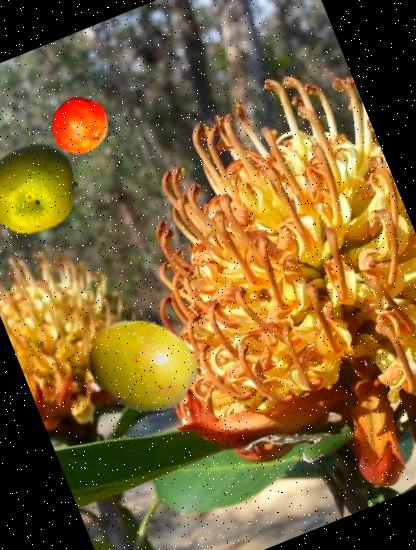Clementine: (41, 85, 120, 164)
Maracuja: (72, 294, 214, 437)
Pomelo: (0, 129, 91, 247)
